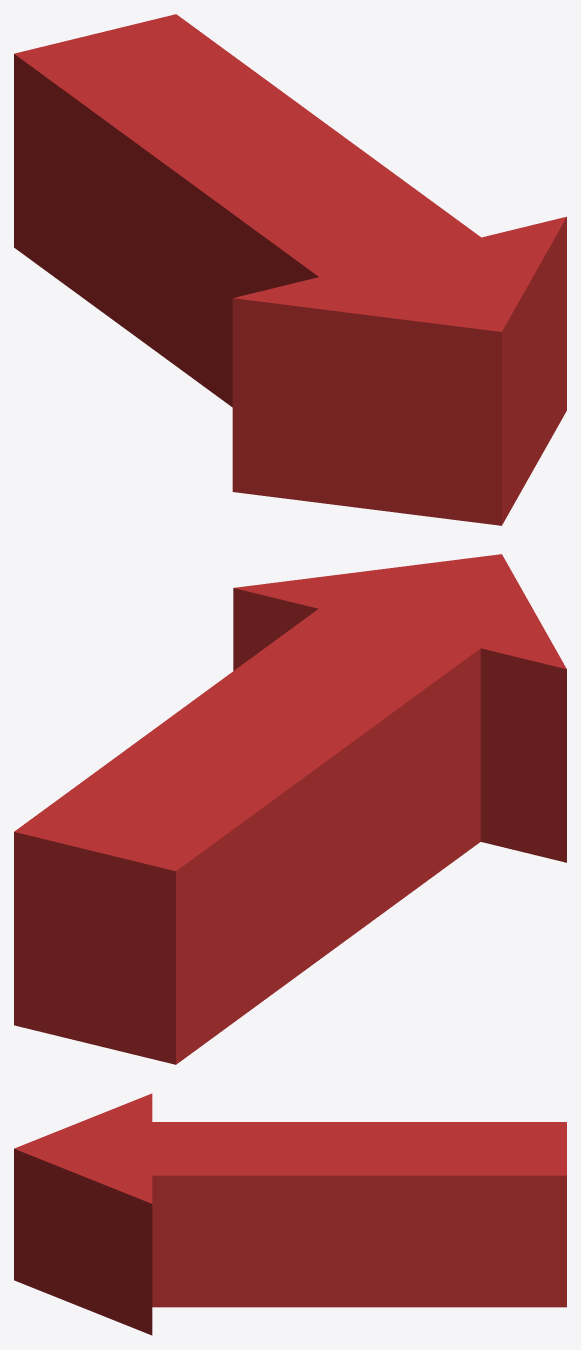
File: arrows.dae
The picture shows the model from 3 angles, top to bottom: view 1: azimuth 30°, elevation 25°; view 2: azimuth 150°, elevation 25°; view 3: azimuth 270°, elevation 25°; orthographic projection. The views are drawn at different scales.
Parts seen in each view (by area): view 1: SketchUp; view 2: SketchUp; view 3: SketchUp.
Boxes of the visible parts, <box> form: SketchUp: <box>14,14,566,525</box>; SketchUp: <box>14,554,566,1064</box>; SketchUp: <box>14,1093,566,1335</box>.
Size of the model in its own units: 57.85 by 122 by 32.06.
